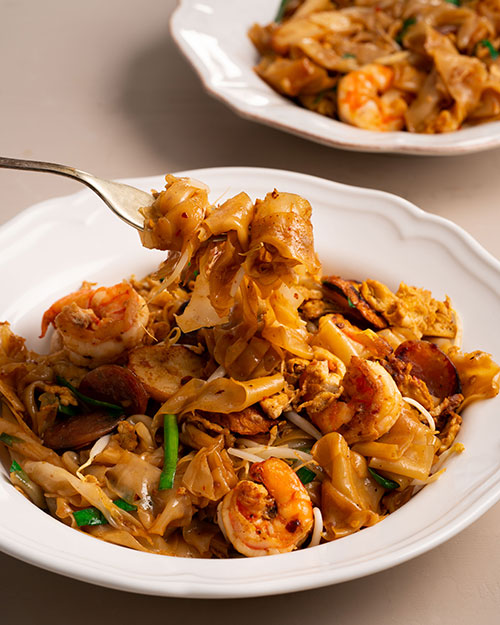Char Kway Teow: (13, 205, 445, 575), (234, 0, 499, 139)
